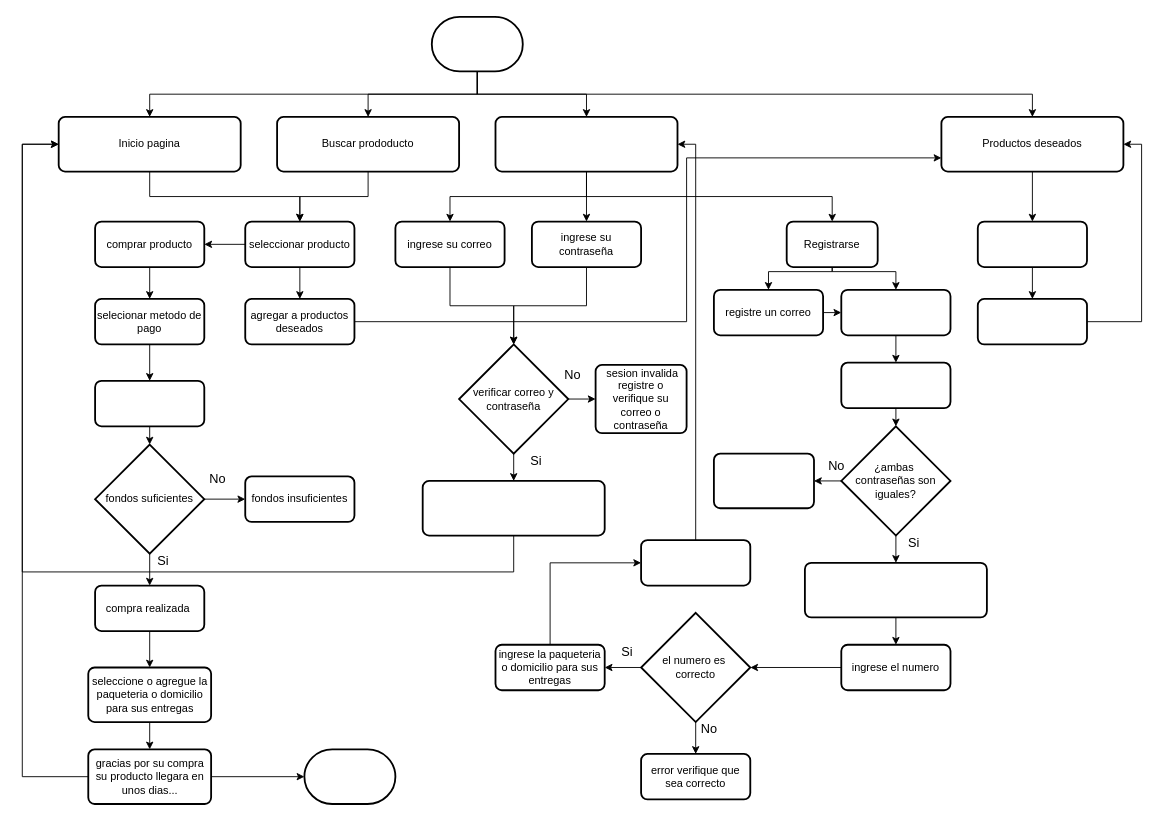
Image size: 1165x820. Some labels were removed from this diagram. Each missing label, with the box of its shape:
confirme su contraseña: (840, 361, 951, 409)
crea una contraseña: (840, 288, 951, 336)
fin: (303, 748, 396, 804)
Inicio: (430, 15, 523, 72)
Inisiar sesion: (494, 116, 678, 172)
pagar: (94, 379, 205, 427)
quitar de productos deseados: (976, 298, 1087, 345)
registro exitoso: (640, 539, 751, 586)
selecionar producto: (976, 220, 1087, 268)
sesion valida: (421, 480, 605, 536)
verifique el numero que se le envio a su correo: (804, 561, 987, 618)
verifique que las contraseñas sean iguales: (713, 452, 814, 509)
